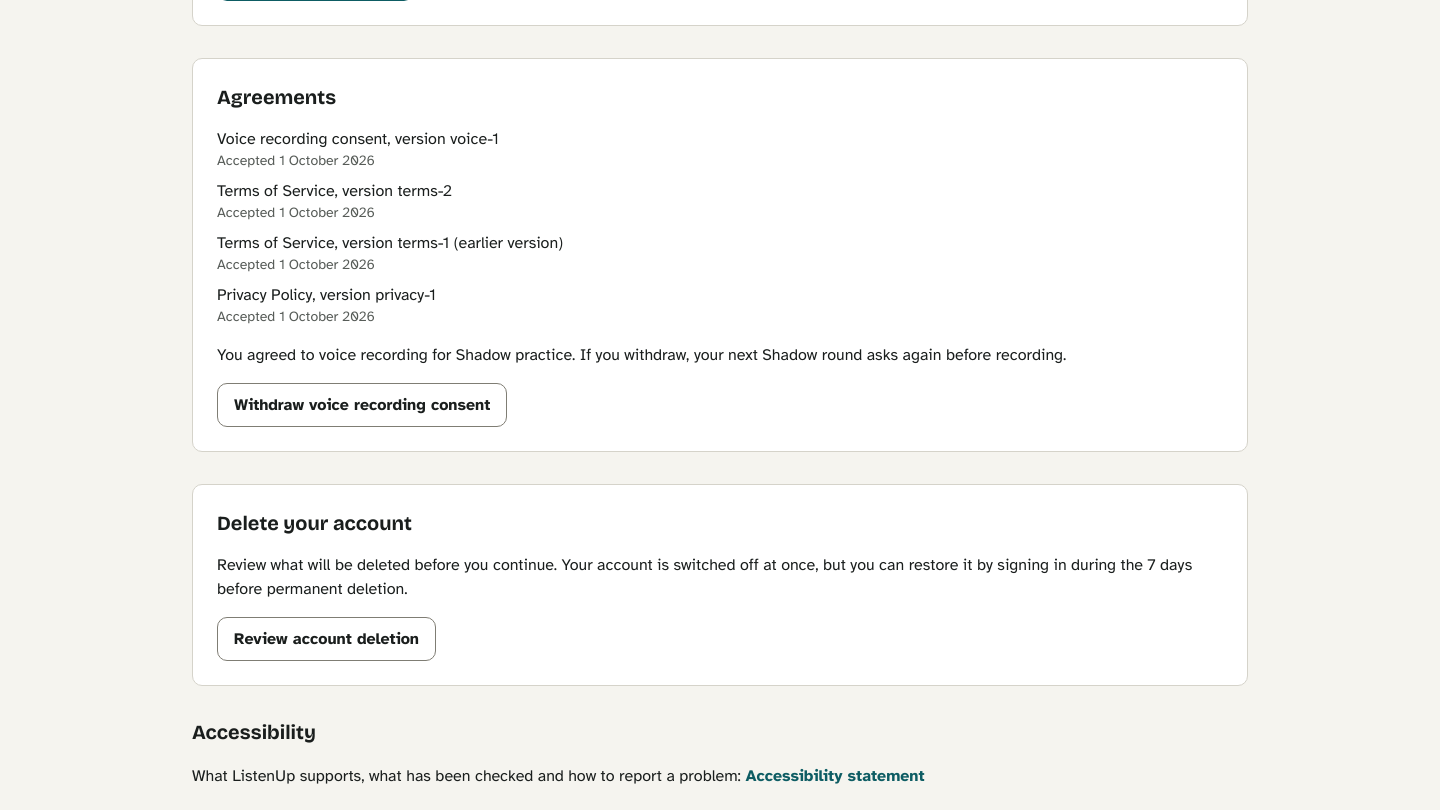
Test case: the withdrawal dialog makes no promise about deleting recordings
This screenshot has width=1440, height=810.
(page scrolled)
Click the button "Withdraw voice recording consent" at point(362, 405), box [217,383,507,427]
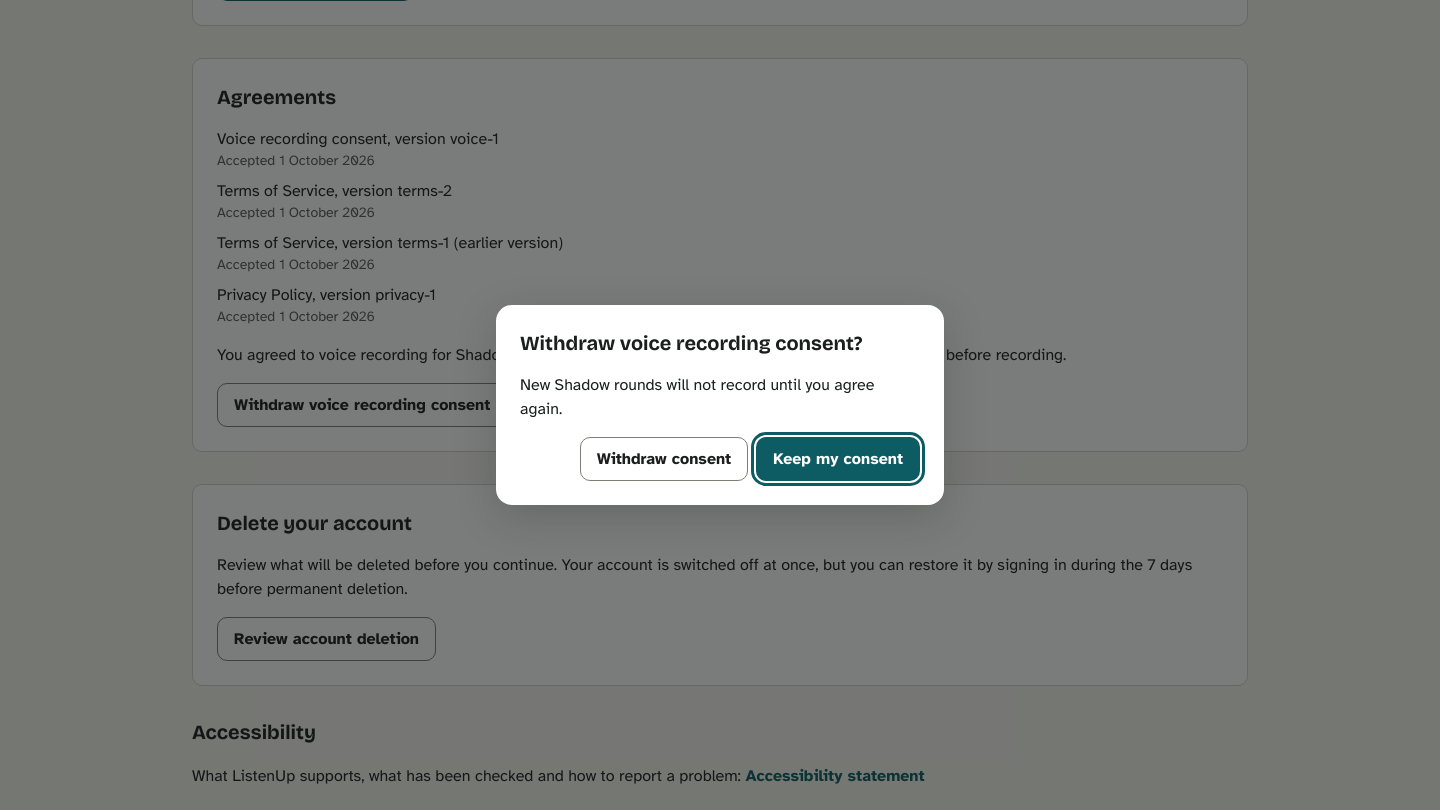
Expected: the text "New Shadow rounds will not record until you agree again." is shown, [520,373,920,421]
